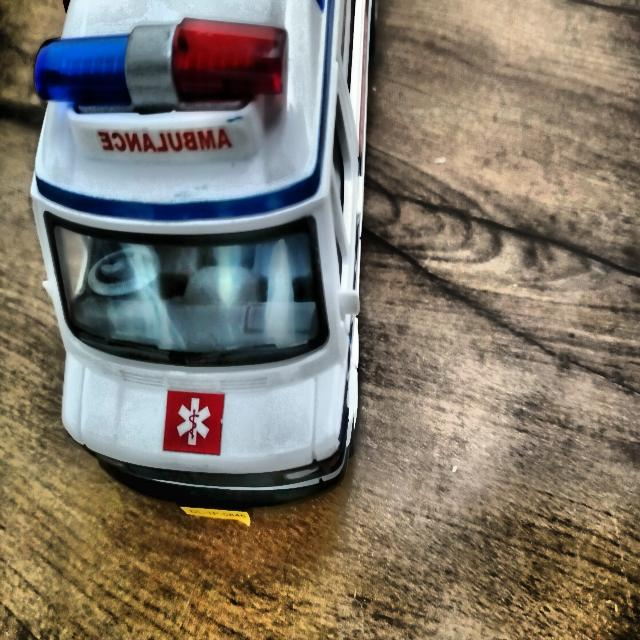Ambulance: (25, 0, 392, 538)
